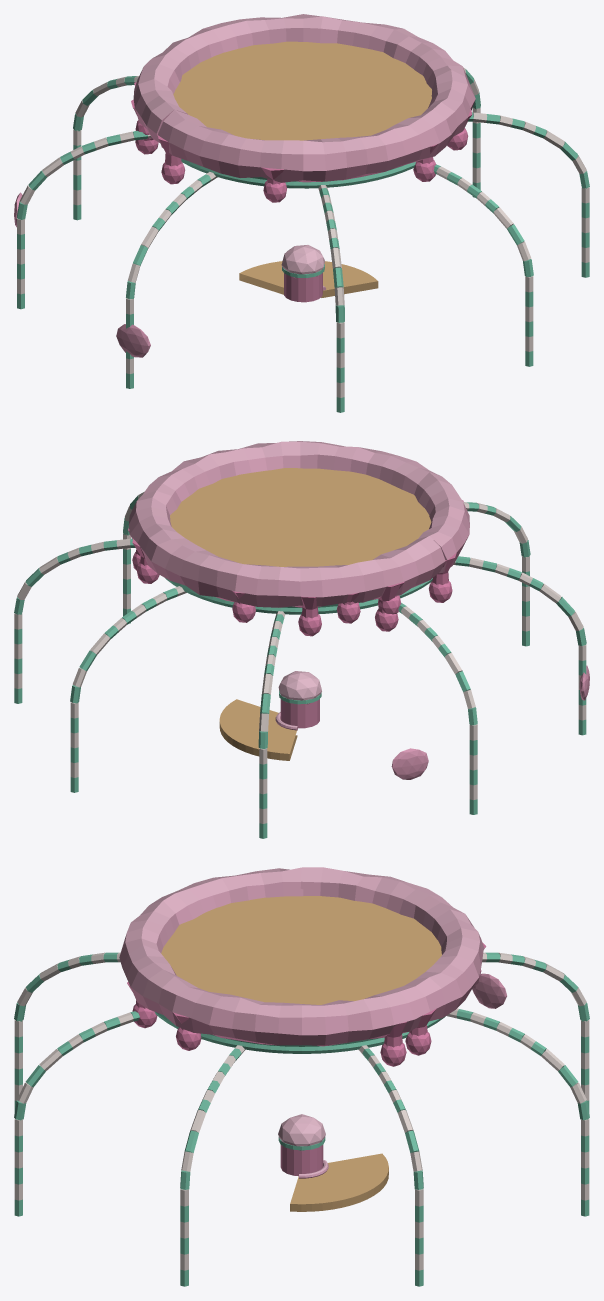
Rendered from goo_jar_trim_4_top@candy.fbx.
The picture shows the model from 3 angles, top to bottom: view 1: azimuth 30°, elevation 25°; view 2: azimuth 150°, elevation 25°; view 3: azimuth 270°, elevation 25°; orthographic projection. The views are drawn at different scales.
Parts seen in each view (by area): view 1: goo_jar_trim_4_top; view 2: goo_jar_trim_4_top; view 3: goo_jar_trim_4_top.
Boxes of the visible parts, <box> form: goo_jar_trim_4_top: <box>14,14,589,412</box>; goo_jar_trim_4_top: <box>14,441,589,838</box>; goo_jar_trim_4_top: <box>14,867,589,1286</box>.
Size of the model in its own units: 41.08 by 18.79 by 40.75.
